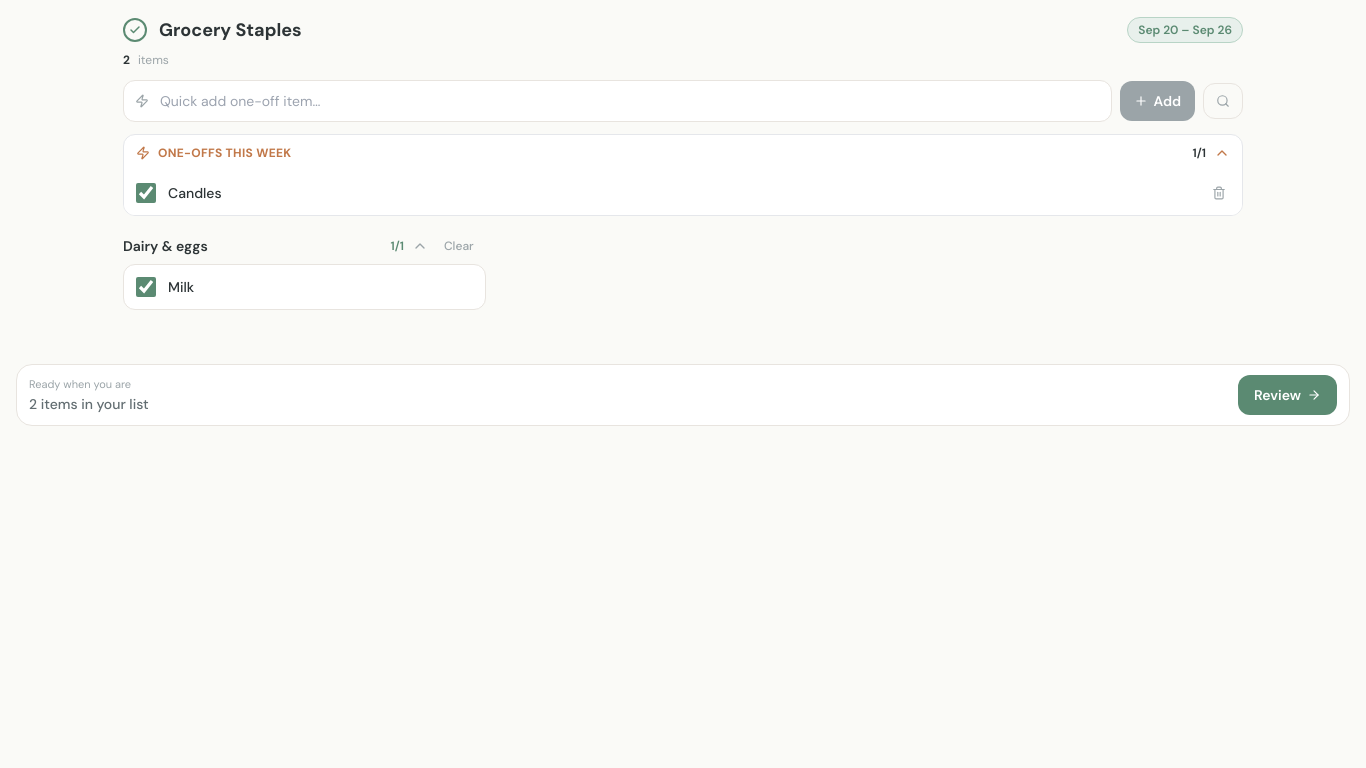
Test: Plan › Back to edit closes the Review overlay
The width and height of the screenshot is (1366, 768).
Step 1. Click the button "Review" → (1288, 395), box [1238,375,1337,415]
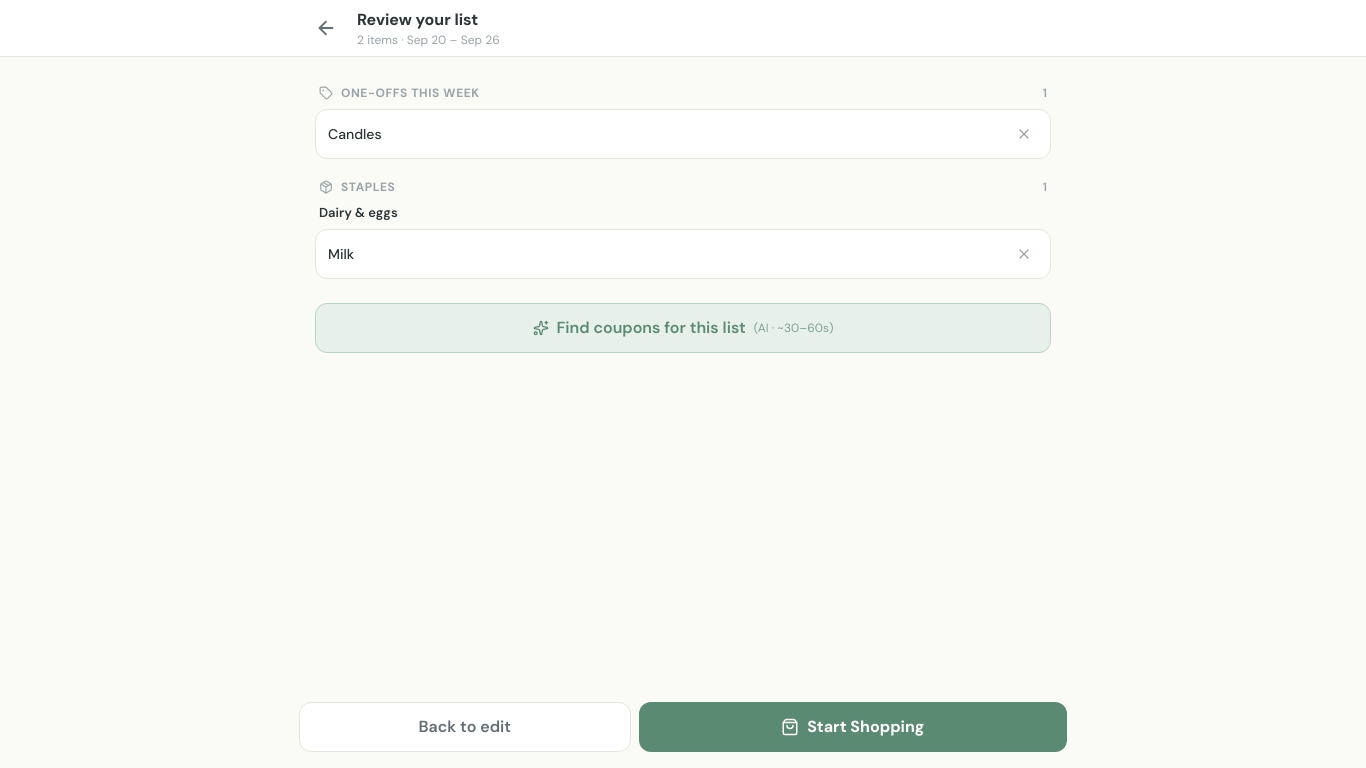
Step 2. Click the button named "back to edit" → (326, 28), box [307,9,345,47]
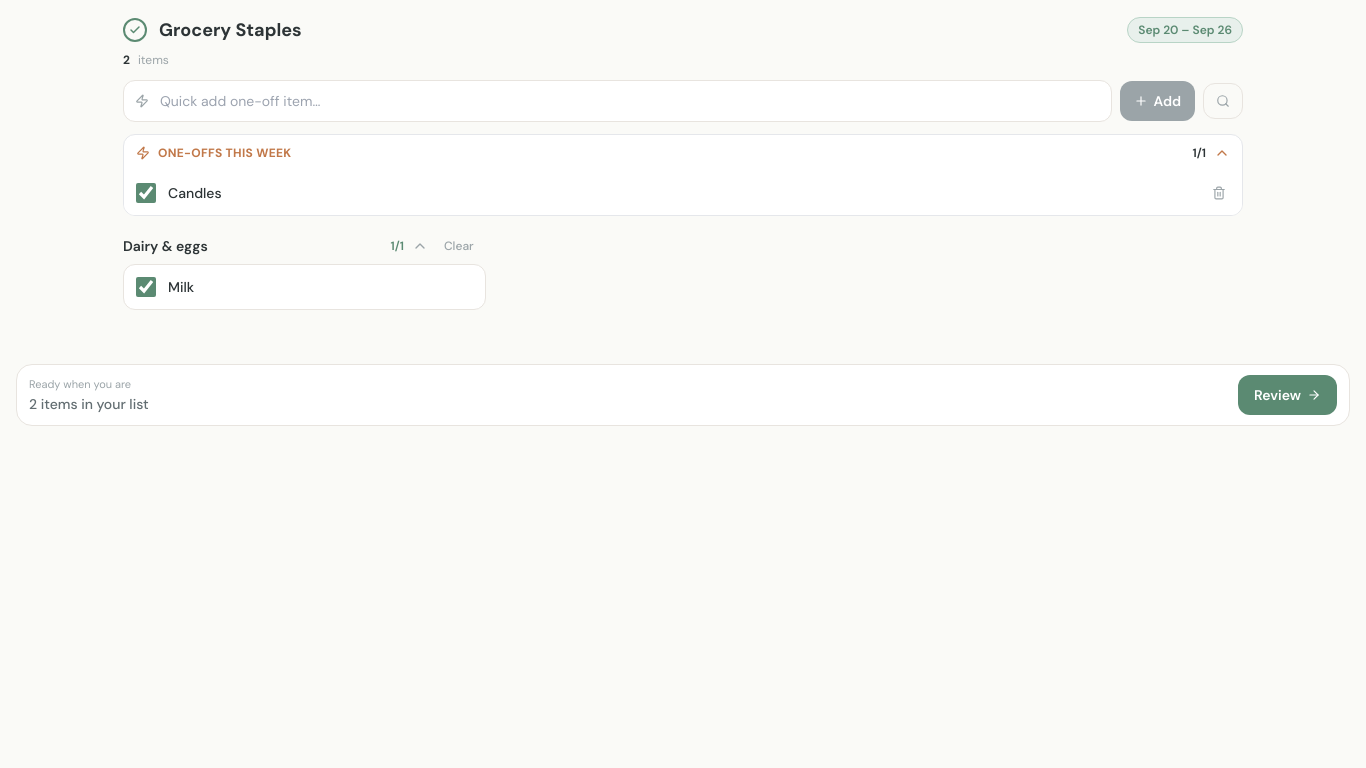
Check: the text "Review your list" is gone
